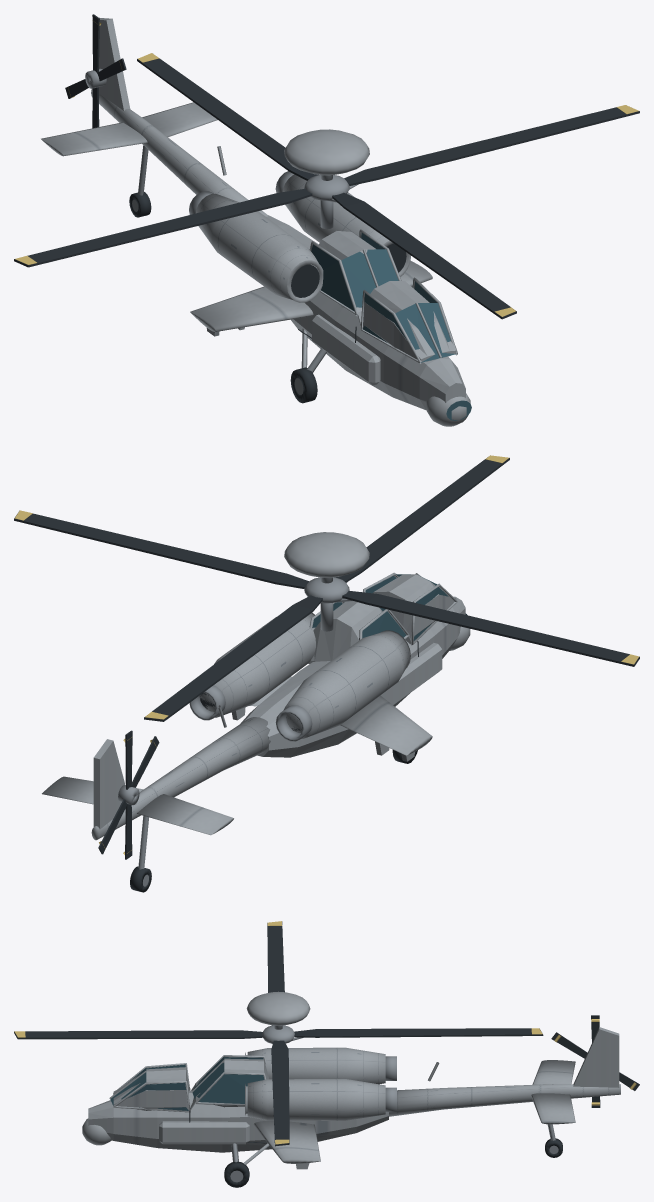
The model's file is ah-64d-apache.glb.
3 renders of one model, top to bottom at view 1: azimuth 30°, elevation 25°; view 2: azimuth 150°, elevation 25°; view 3: azimuth 270°, elevation 25°, orthographic. The views are drawn at different scales.
Parts seen in each view (by area): view 1: airframe_static, main_rotor_blade_assembly, tail_rotor_blade_assembly, main_wheel_L; view 2: airframe_static, main_rotor_blade_assembly, tail_rotor_blade_assembly; view 3: airframe_static, main_rotor_blade_assembly, tail_rotor_blade_assembly, main_wheel_R.
Boxes of the visible parts, <box> form: airframe_static: <box>41,17,471,426</box>; main_rotor_blade_assembly: <box>14,53,639,319</box>; tail_rotor_blade_assembly: <box>65,14,126,128</box>; main_wheel_L: <box>290,367,317,403</box>; airframe_static: <box>42,532,470,869</box>; main_rotor_blade_assembly: <box>14,455,639,721</box>; tail_rotor_blade_assembly: <box>98,730,159,859</box>; airframe_static: <box>82,991,620,1169</box>; main_rotor_blade_assembly: <box>14,921,543,1146</box>; tail_rotor_blade_assembly: <box>551,1015,639,1107</box>; main_wheel_R: <box>224,1161,249,1187</box>.
Size of the model in its own units: 14.6 by 5.16 by 17.27.
Materials: 5 (1 with a texture image).
